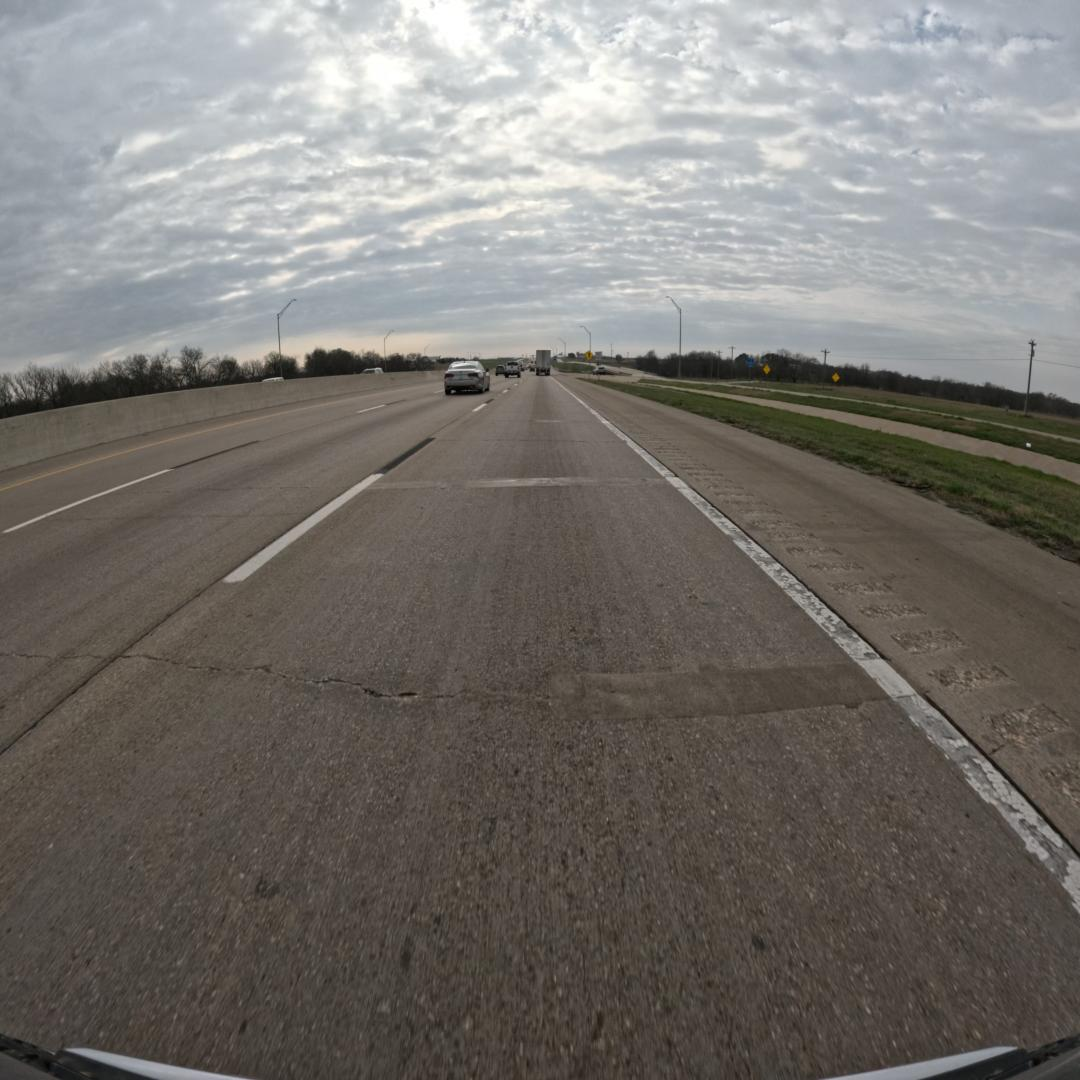lane0: (0, 378, 1080, 1080)
lane1: (0, 393, 501, 753)
